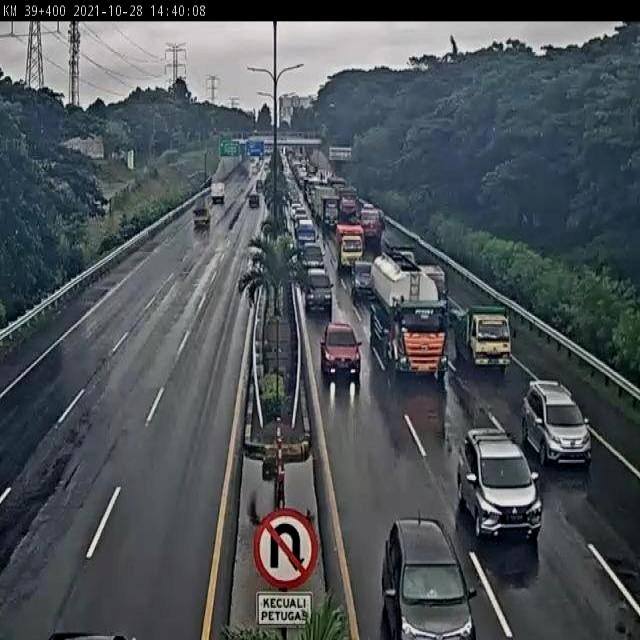Car: (380, 518, 476, 638), (456, 427, 542, 540), (522, 379, 591, 466), (318, 317, 362, 383), (304, 268, 334, 313), (359, 206, 384, 247), (352, 260, 374, 300), (300, 243, 324, 273), (193, 203, 211, 229), (211, 182, 225, 205), (248, 192, 260, 208)
Truck: (371, 252, 455, 383), (457, 300, 515, 367), (314, 186, 342, 231)
